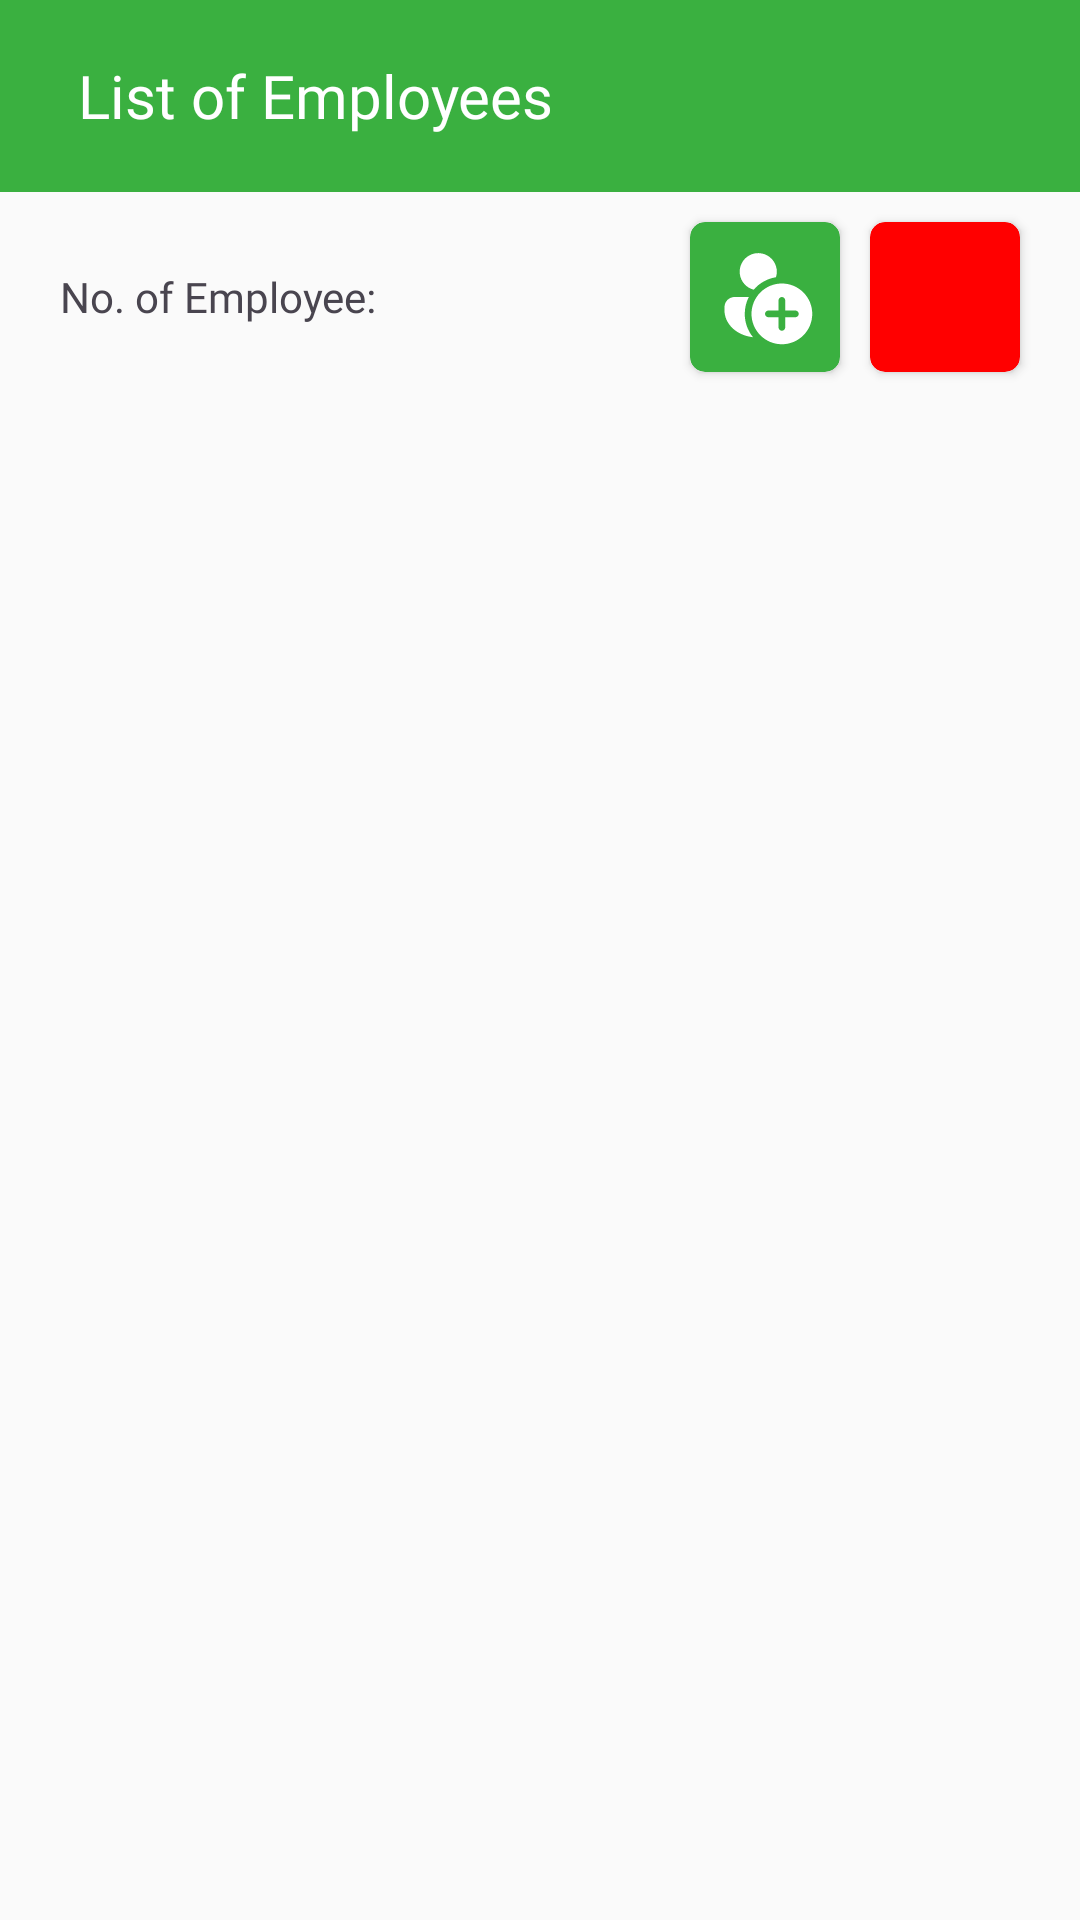

Locate icon controls on the screen. Image size 1080px x 1920px, boxes as (x1, y1, x2, y2).
add employee: (724, 253, 813, 345)
